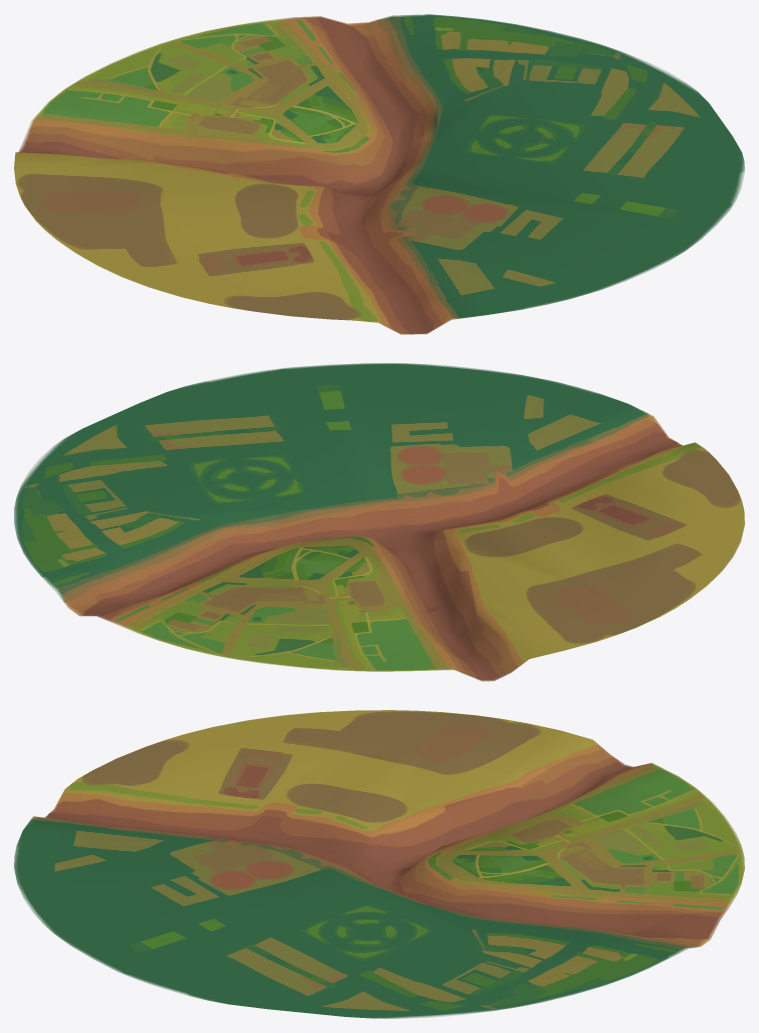
The model's file is SM_CityTerrain_02.fbx.
The picture shows the model from 3 angles, top to bottom: view 1: azimuth 30°, elevation 25°; view 2: azimuth 150°, elevation 25°; view 3: azimuth 270°, elevation 25°; orthographic projection.
Visible parts, largest first — view 1: SM_CityTerrain_01; view 2: SM_CityTerrain_01; view 3: SM_CityTerrain_01.
Boxes of the visible parts, x1,y1,x2,y2 form: SM_CityTerrain_01: (14,14,744,334); SM_CityTerrain_01: (14,363,744,681); SM_CityTerrain_01: (14,710,744,1018).
Size of the model in its own units: 2539 by 97.95 by 2539.
